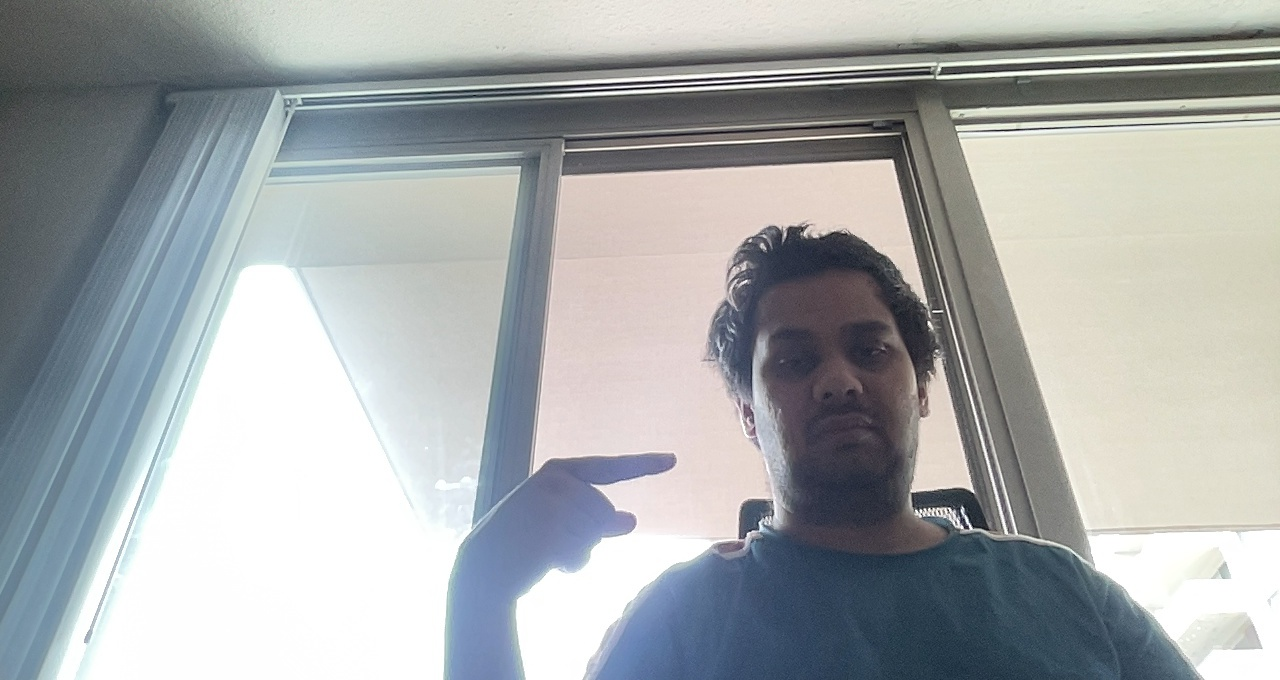fingerleft: (448, 449, 683, 572)
